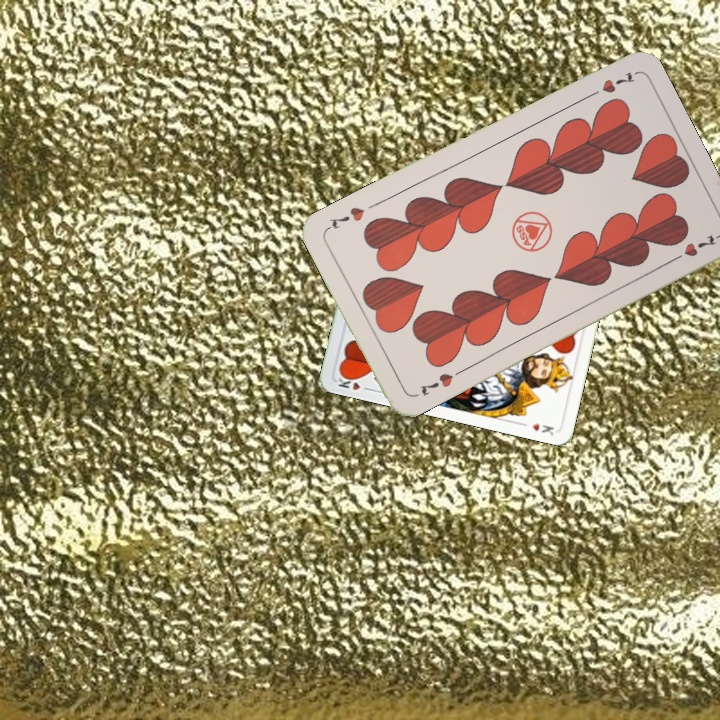H7: (582, 67, 638, 101), (415, 369, 456, 399)
HK: (333, 370, 373, 393)
